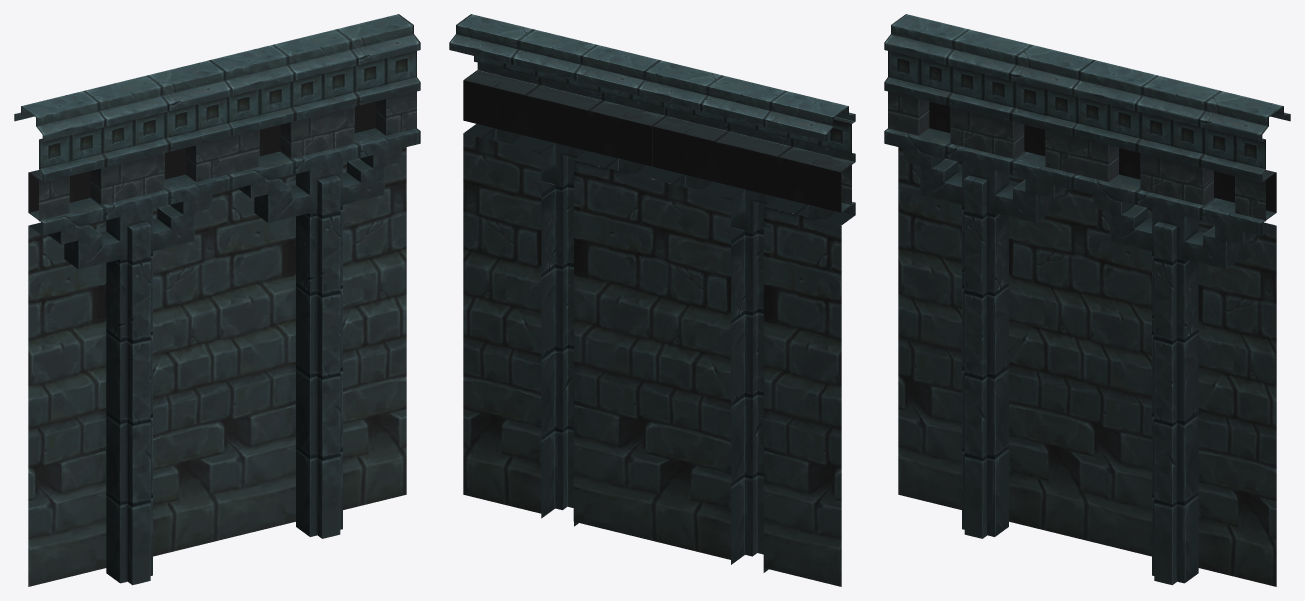
The model's file is Stage_DiXiaCheng_DiMianBaoBian02.FBX.
The picture shows the model from 3 angles, left to right: view 1: azimuth 30°, elevation 25°; view 2: azimuth 150°, elevation 25°; view 3: azimuth 330°, elevation 25°; orthographic projection.
Visible parts, largest first — view 1: Stage_DiXiaCheng_DiMianBaoBian02; view 2: Stage_DiXiaCheng_DiMianBaoBian02; view 3: Stage_DiXiaCheng_DiMianBaoBian02.
Boxes of the visible parts, x1,y1,x2,y2 form: Stage_DiXiaCheng_DiMianBaoBian02: (14,14,420,586); Stage_DiXiaCheng_DiMianBaoBian02: (449,14,855,586); Stage_DiXiaCheng_DiMianBaoBian02: (884,14,1290,586).
Bounding box in the file's own units: 1201 × 1458 × 183.
